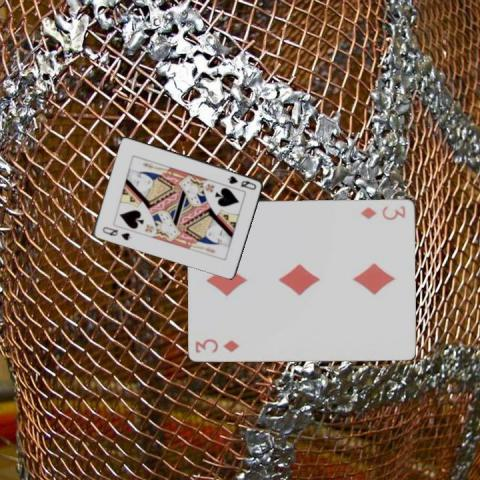3d: (358, 203, 408, 221), (192, 336, 241, 354)
Qs: (99, 223, 133, 242), (225, 173, 258, 191)
